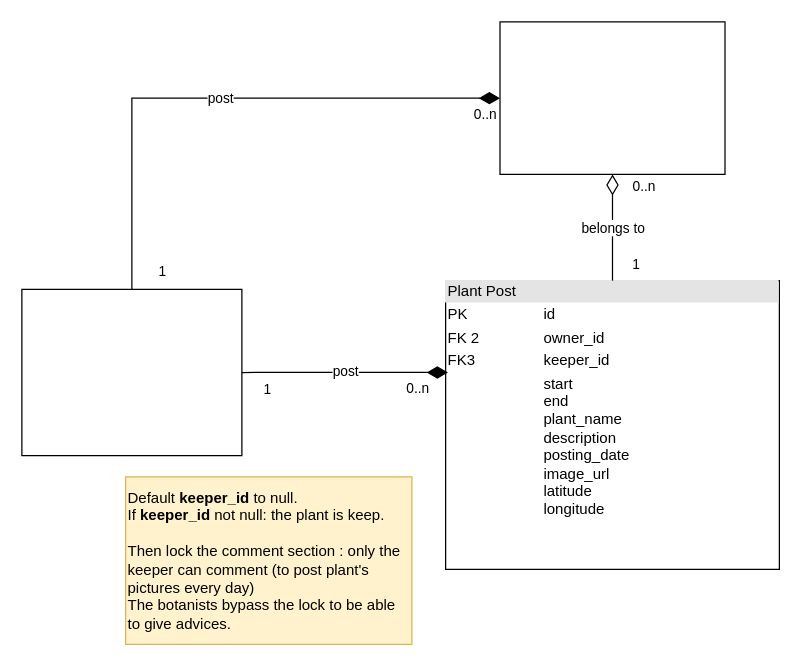
Image size: 801x666. Some labels were removed from this diagram. The centre of each missing label's shape, as x and y in pixels:
Comment PK id FK user_id post_id postring_date content image_url: the point at 612,97
User PK id email hashed_password firstname lastname is_botanist: the point at 131,372
